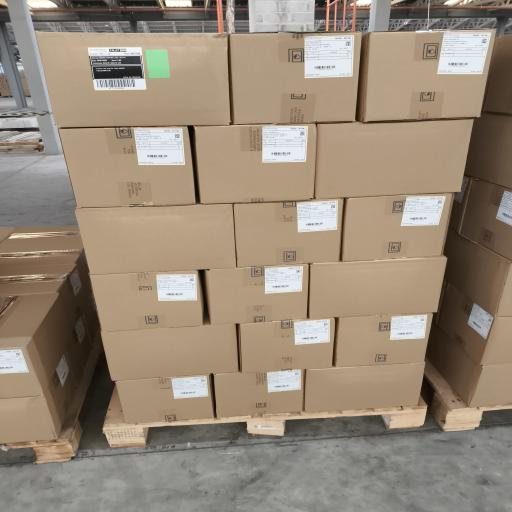pallet: (103, 388, 427, 447), (6, 331, 102, 463), (425, 360, 511, 431)
